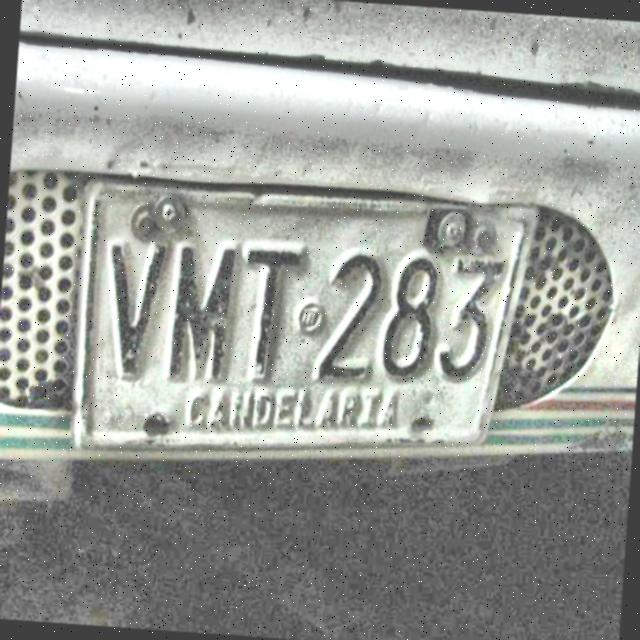2: (309, 247, 396, 388)
3: (430, 247, 513, 388)
8: (375, 245, 450, 388)
M: (155, 241, 243, 383)
T: (235, 239, 312, 384)
V: (103, 237, 172, 387)
